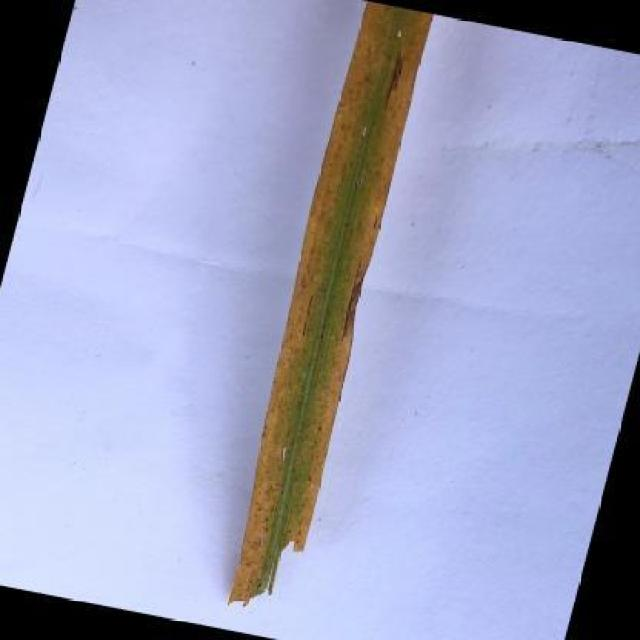Rice False Smut: (229, 4, 431, 604)
